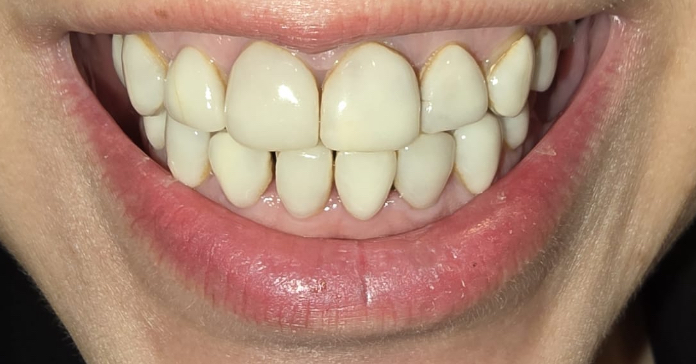teeth: (323, 43, 418, 152), (225, 41, 319, 151), (422, 45, 489, 132), (165, 47, 225, 131), (208, 134, 272, 205), (396, 137, 456, 208), (334, 154, 395, 218), (276, 150, 333, 215), (490, 35, 534, 118), (124, 33, 164, 115), (162, 118, 209, 187), (456, 117, 500, 189), (536, 30, 557, 89), (506, 107, 528, 146), (111, 33, 124, 83), (146, 113, 164, 146)
